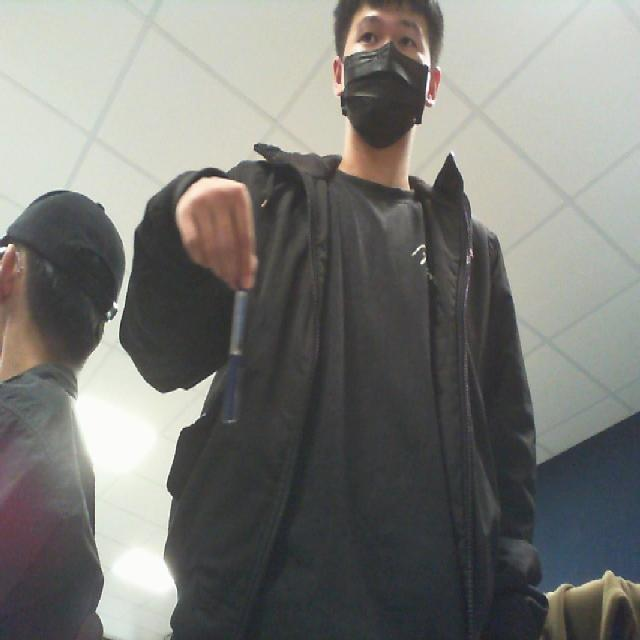Pen: (206, 253, 283, 454)
